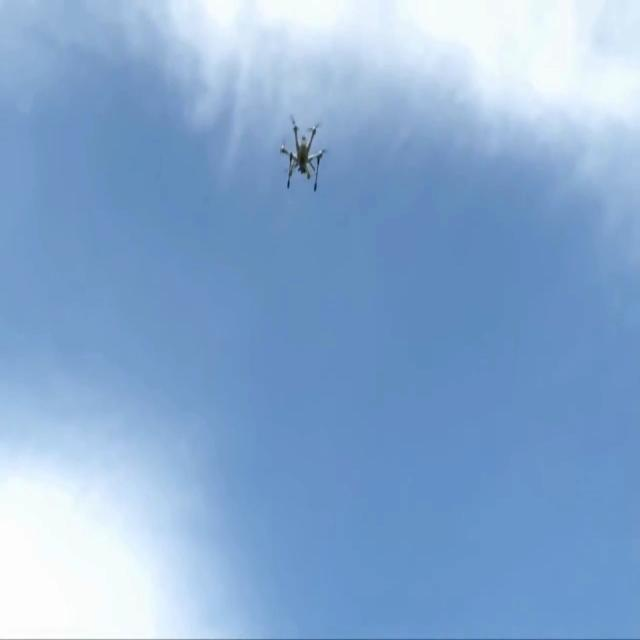drone: (280, 113, 326, 192)
